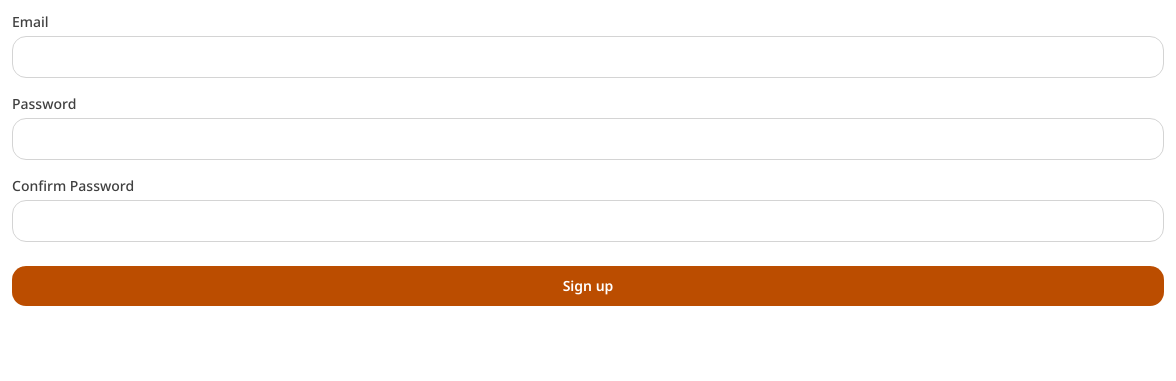
SignUpForm › shows a client-side error when passwords do not match
In the field labelled "Email": (588, 57) [12, 36, 1164, 78], type "new@example.com"
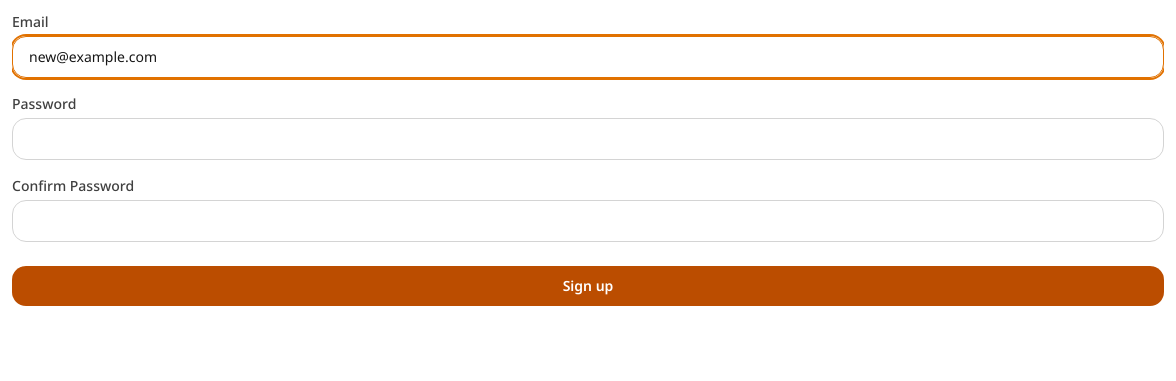
In the password field labelled "Password": (588, 139) [12, 118, 1164, 160], type "Password1!"
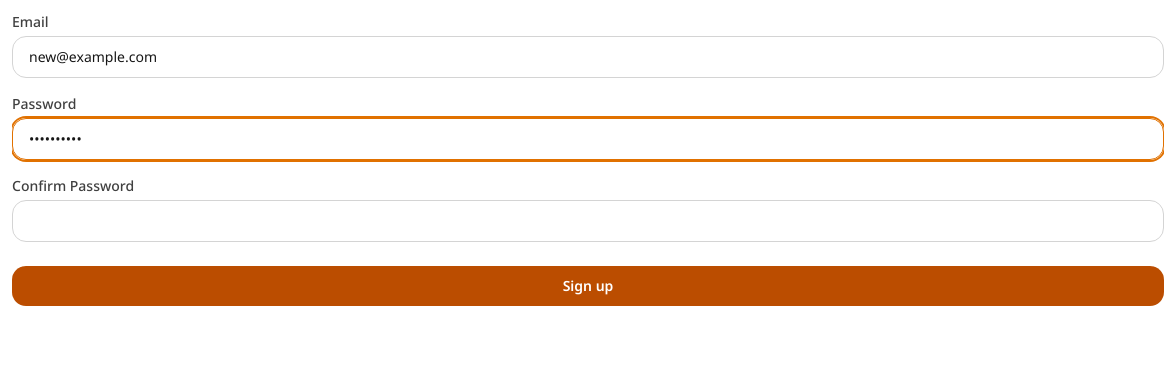
In the password field labelled "Confirm Password": (588, 221) [12, 200, 1164, 242], type "Different1!"
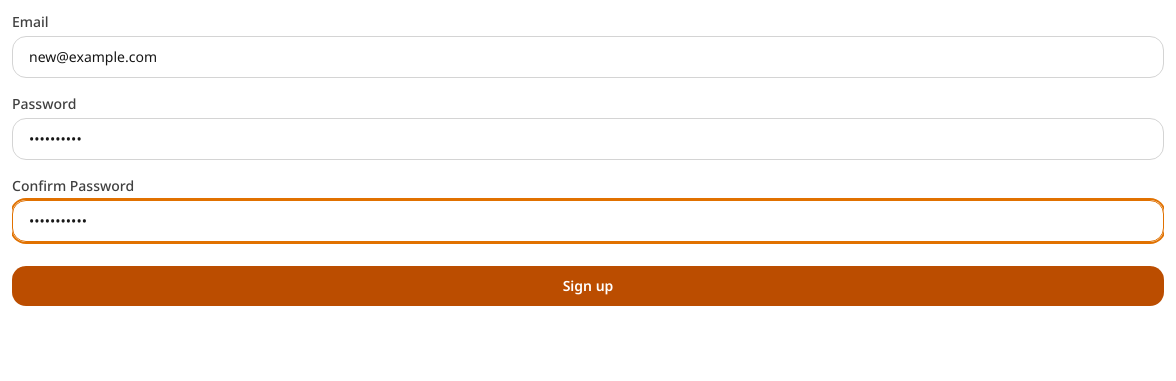
Click the button "Sign up": (588, 286) [12, 266, 1164, 306]
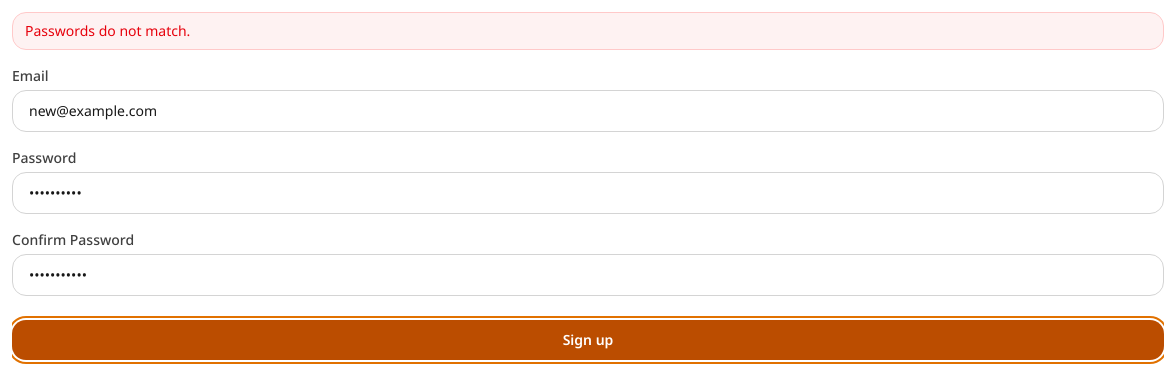
Now the message "Passwords do not match." is shown, box [12, 12, 1164, 50]
